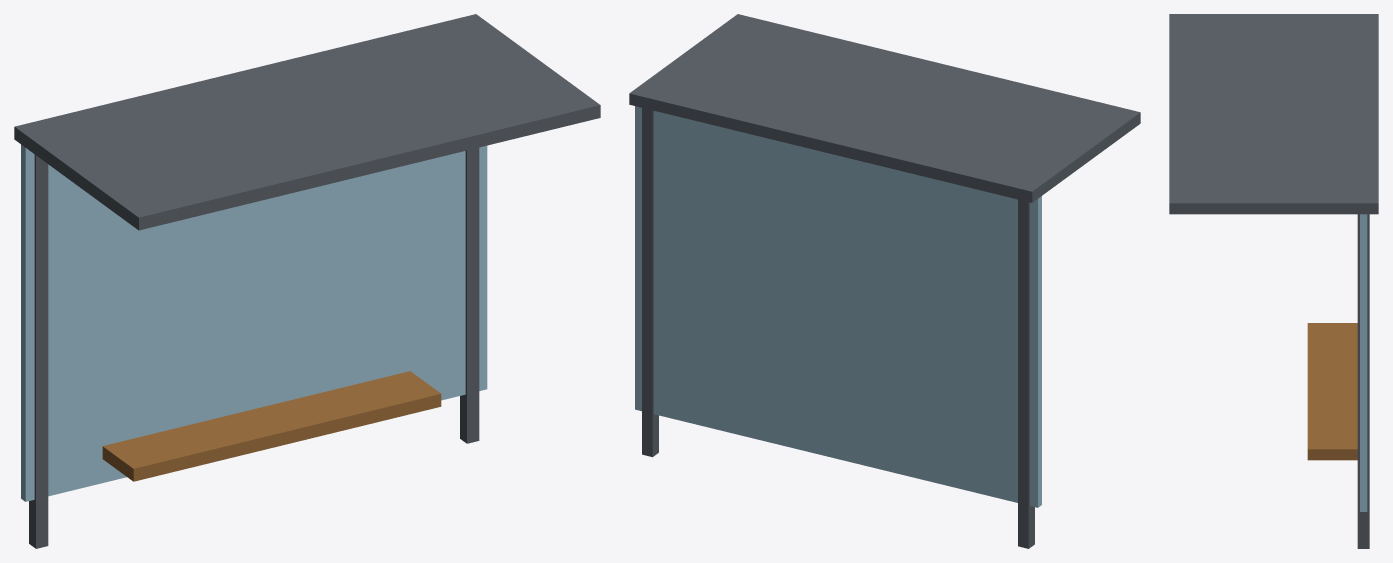
The model's file is bus-stop.glb.
3 renders of one model, left to right at view 1: azimuth 30°, elevation 25°; view 2: azimuth 150°, elevation 25°; view 3: azimuth 270°, elevation 25°, orthographic. The views are drawn at different scales.
Size of the model in its own units: 3 by 2.58 by 1.4.
